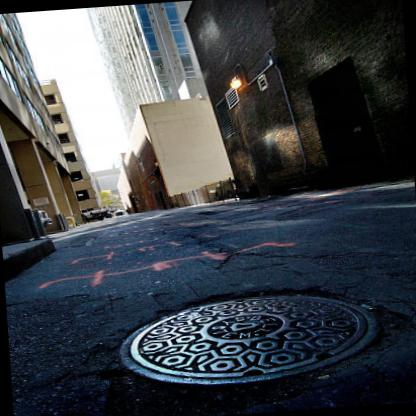manholes: (101, 272, 394, 412)
